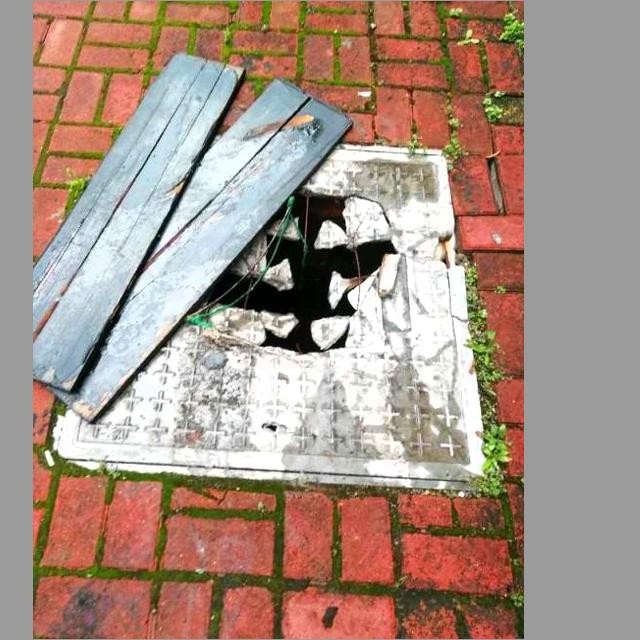broke: (44, 110, 488, 498)
